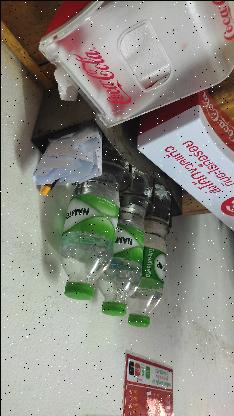Others: (33, 124, 103, 186), (52, 60, 78, 102)
Plastic Bottle: (58, 141, 120, 299), (86, 172, 154, 316), (118, 182, 178, 326)
